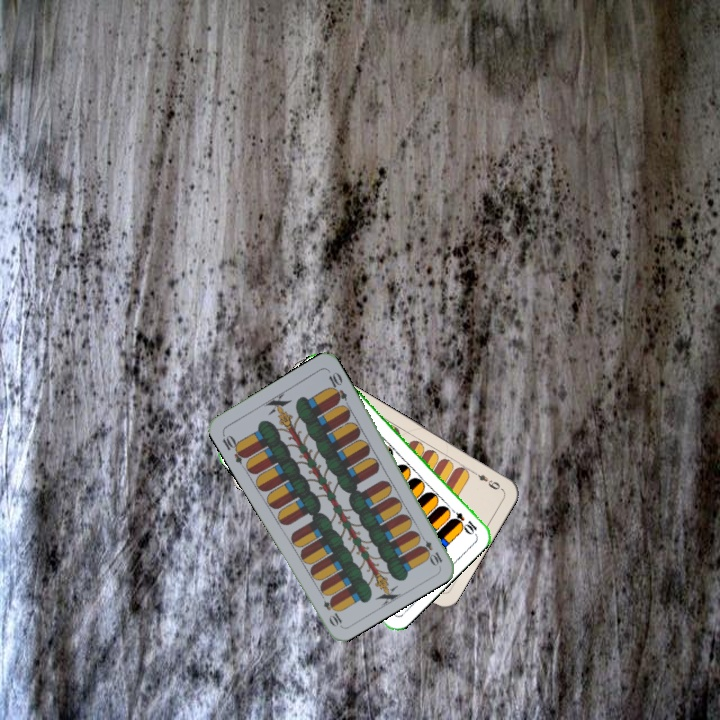E10: (445, 503, 480, 537), (218, 429, 250, 466), (415, 530, 445, 568)
E9: (468, 467, 505, 493)
